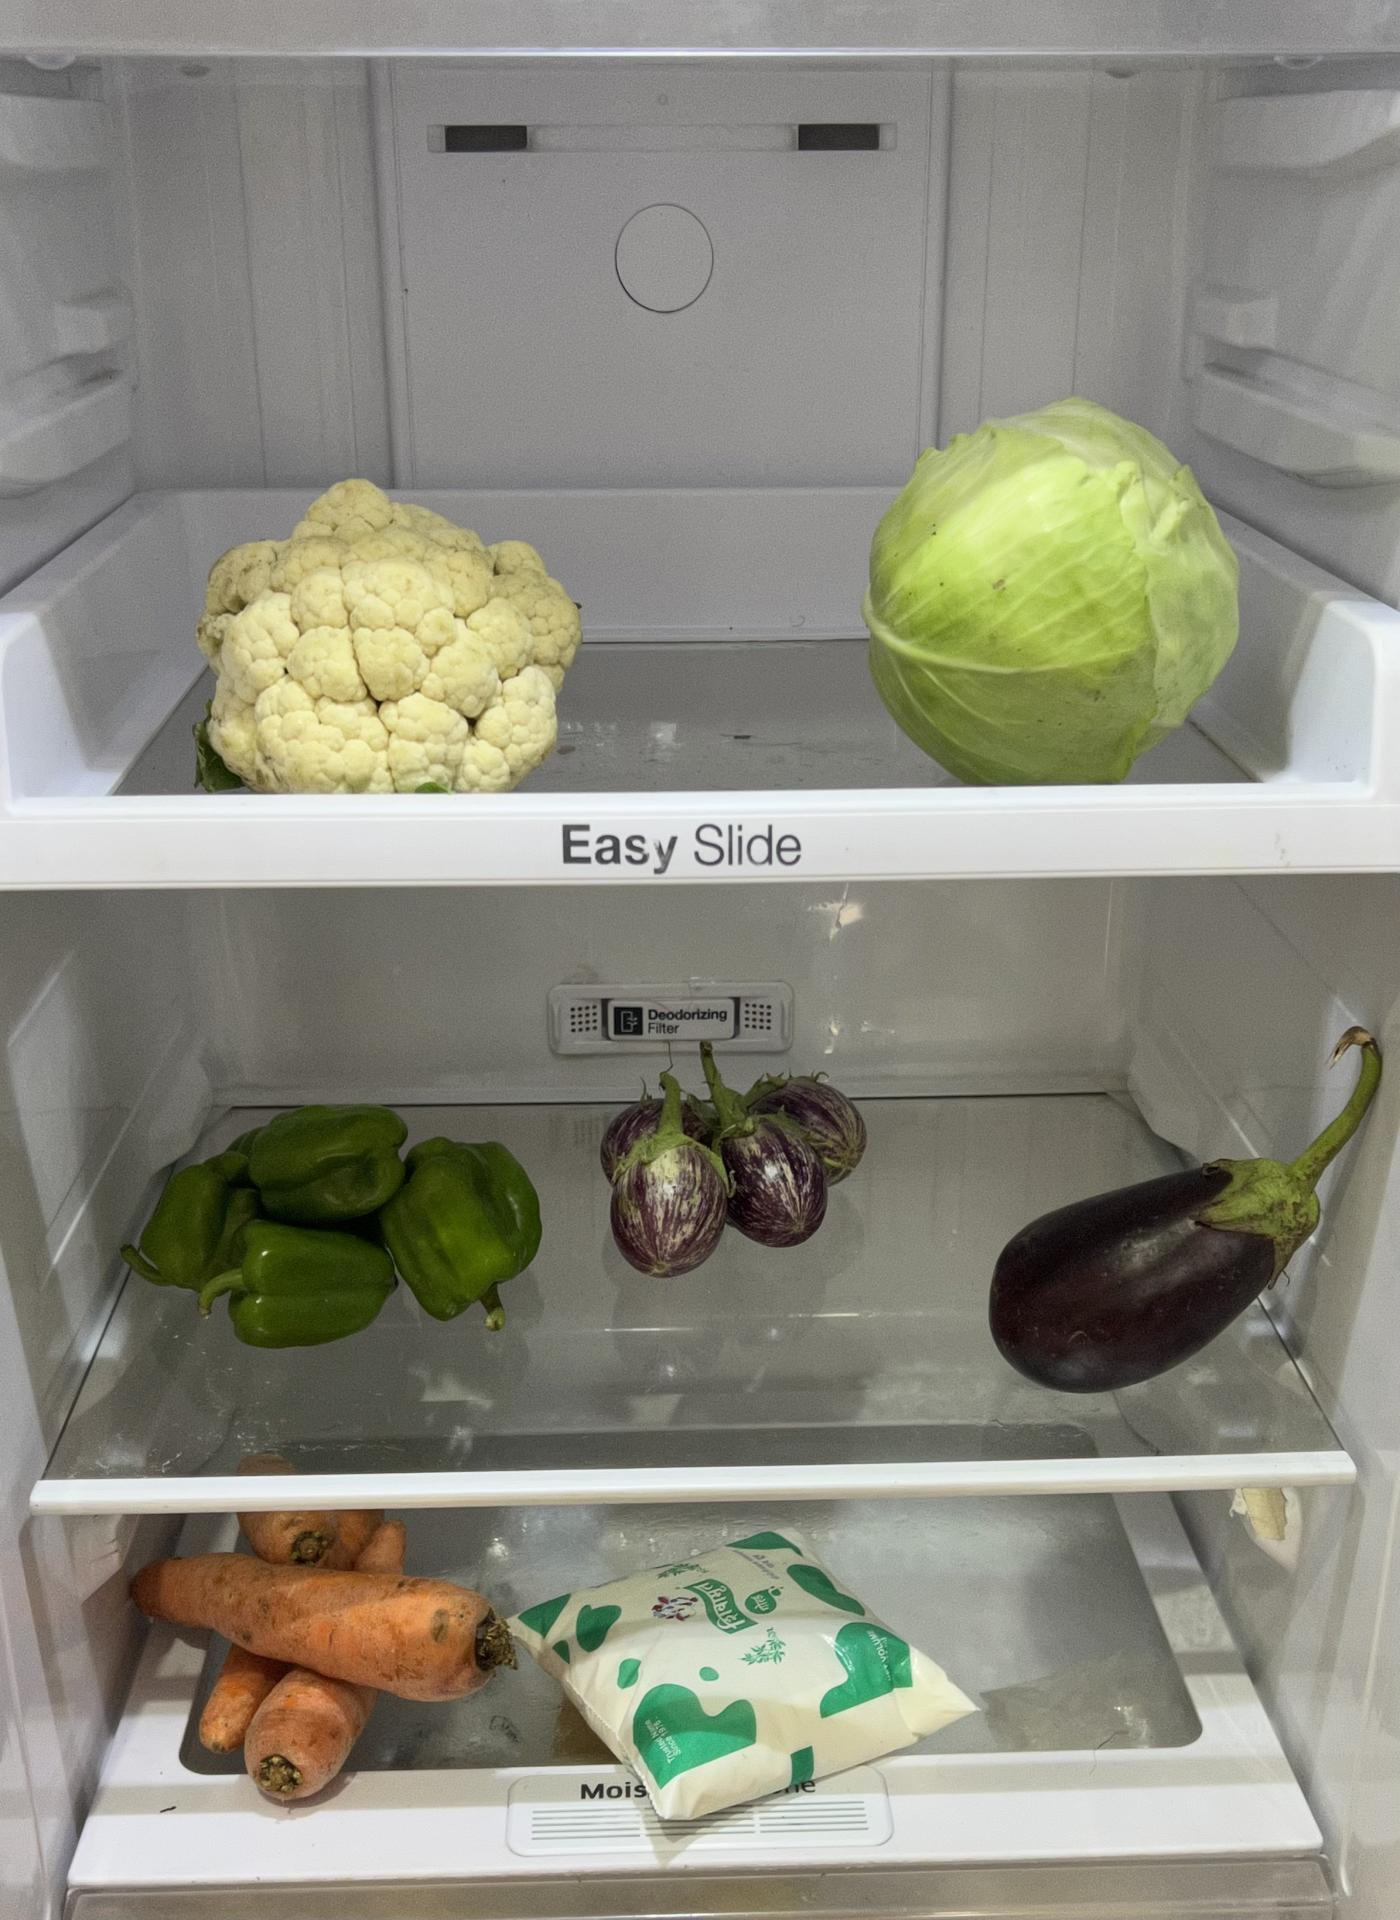cabbage: (865, 392, 1249, 787)
capsicum: (130, 1099, 552, 1351)
carrots: (124, 1504, 508, 1808)
cauliflower: (198, 473, 581, 799)
milk: (504, 1534, 986, 1814)
